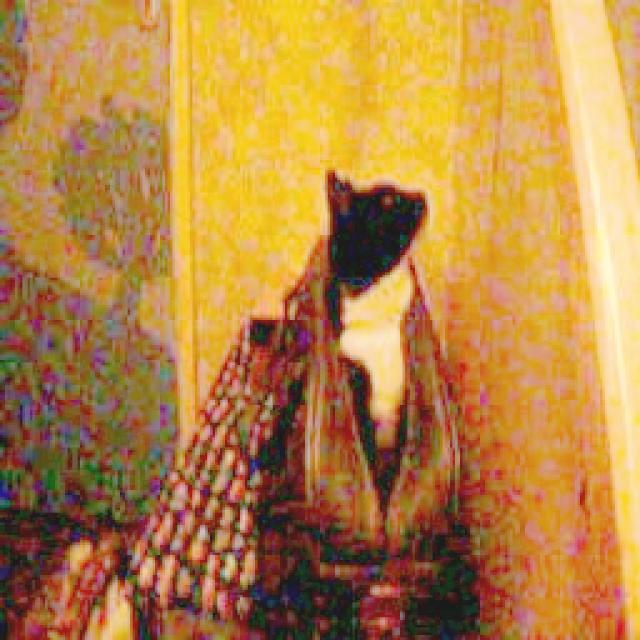cat: (264, 137, 472, 545)
